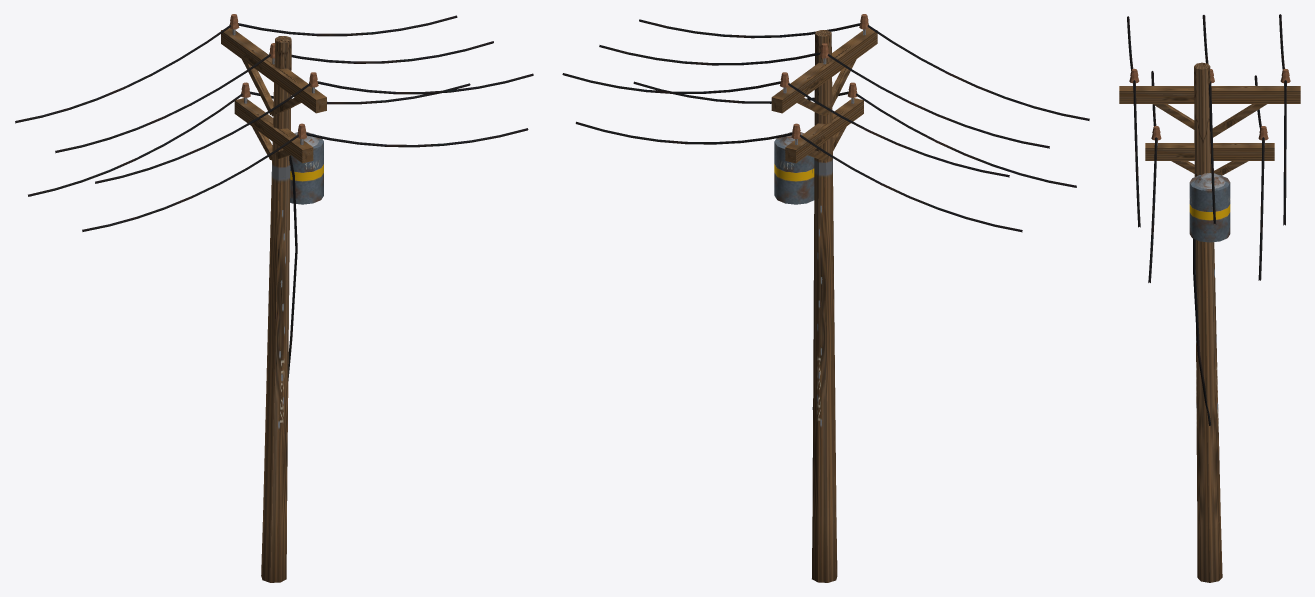
The model's file is env_poles.glb.
The picture shows the model from 3 angles, left to right: view 1: azimuth 30°, elevation 25°; view 2: azimuth 150°, elevation 25°; view 3: azimuth 270°, elevation 25°; orthographic projection. The views are drawn at different scales.
Visible parts, largest first — view 1: env_poles_body; view 2: env_poles_body; view 3: env_poles_body.
Part boxes in pixels (box(x1,y1,x2,y2)): env_poles_body: box(15, 14, 533, 582); env_poles_body: box(562, 14, 1089, 582); env_poles_body: box(1119, 14, 1300, 582).
Size of the model in its own units: 3.1 by 3.6 by 1.15.
1 material, 1 textured.
